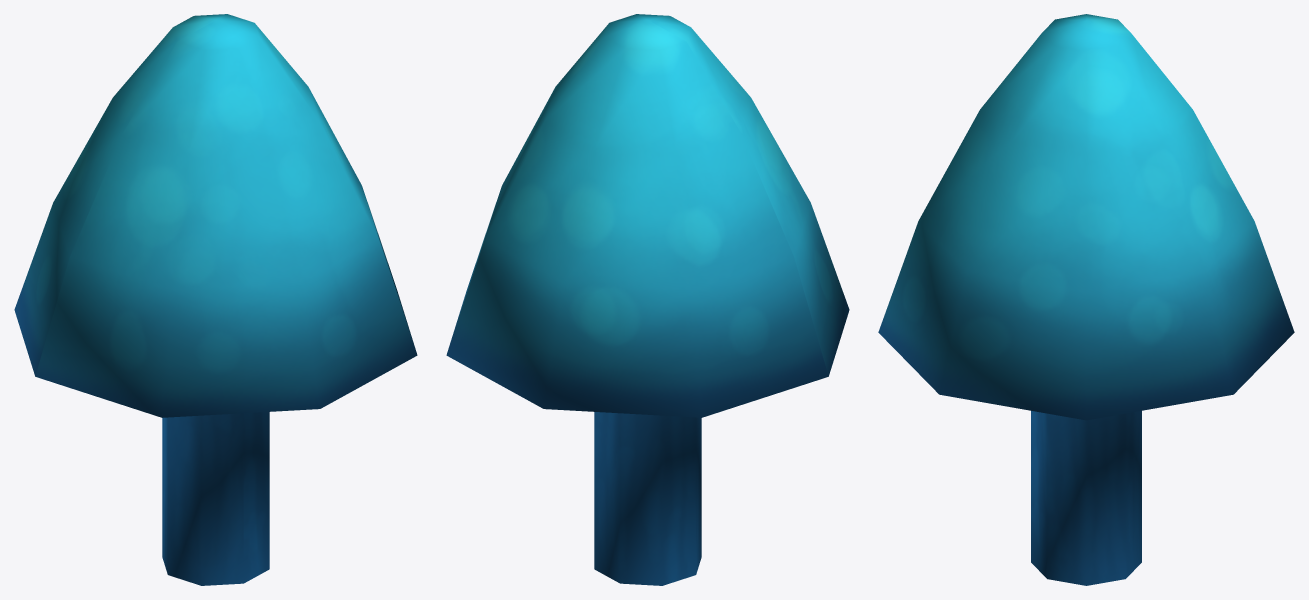
The model's file is MushroomBlue.fbx.
The picture shows the model from 3 angles, left to right: view 1: azimuth 30°, elevation 25°; view 2: azimuth 150°, elevation 25°; view 3: azimuth 270°, elevation 25°; orthographic projection.
Visible parts, largest first — view 1: pCylinder1; view 2: pCylinder1; view 3: pCylinder1.
Part boxes in pixels (<box>): pCylinder1: <box>14,14,417,585</box>; pCylinder1: <box>446,14,849,585</box>; pCylinder1: <box>878,14,1294,585</box>.
Bounding box in the file's own units: 1.74 × 2.49 × 1.74.
